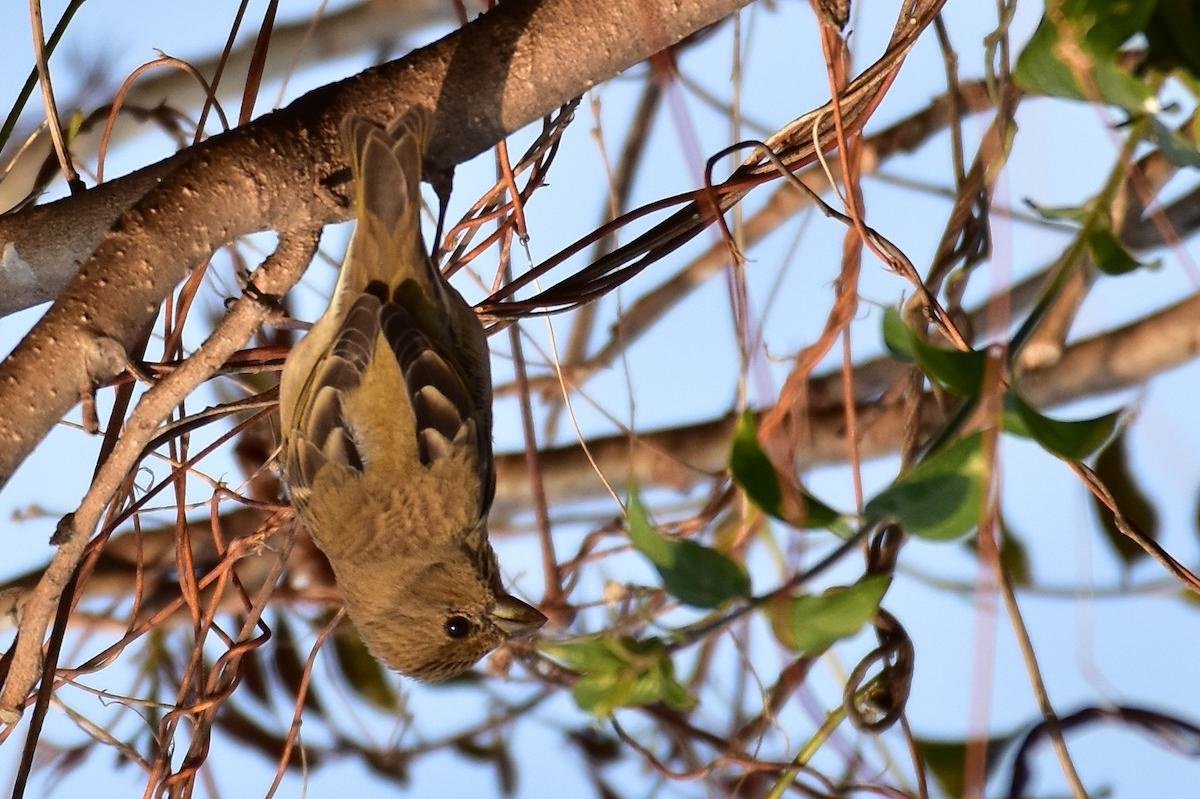rosefinch: (253, 141, 559, 671)
